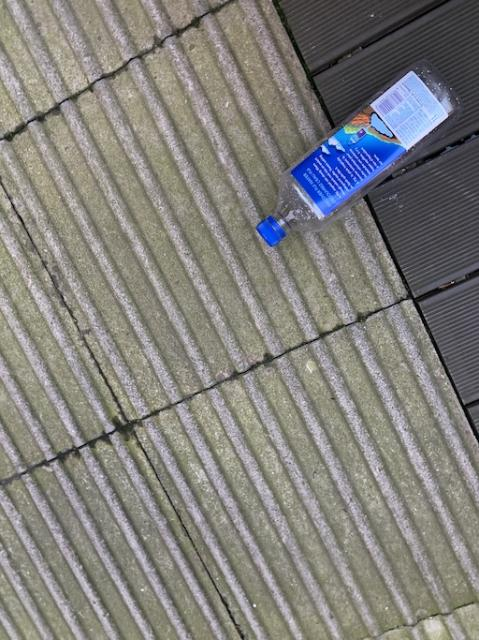plastic: (256, 60, 460, 245)
